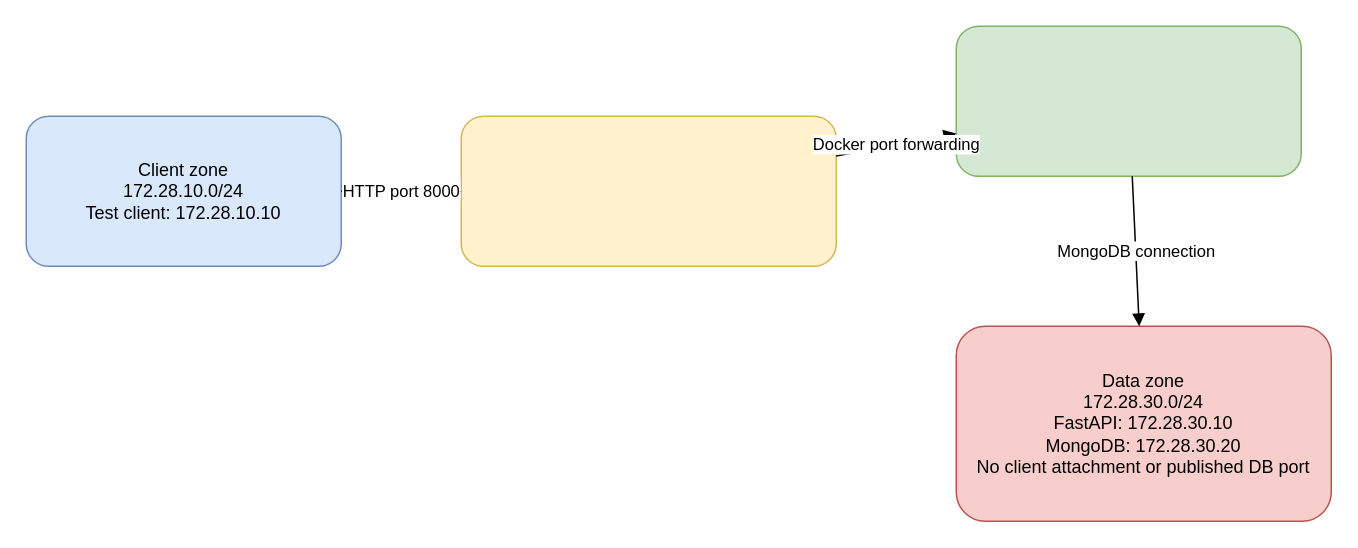
Image size: 1358x548. Some labels were removed from this diagram. Here are the shapes that lost their labels. From the top down, the centre of each, then its label:
the point at 1128,100: Service zone 172.28.20.0/24 FastAPI: 172.28.20.10
the point at 648,190: Docker host bridge gateway 172.28.10.1:8000 NAT/forward to 172.28.20.10:8000
